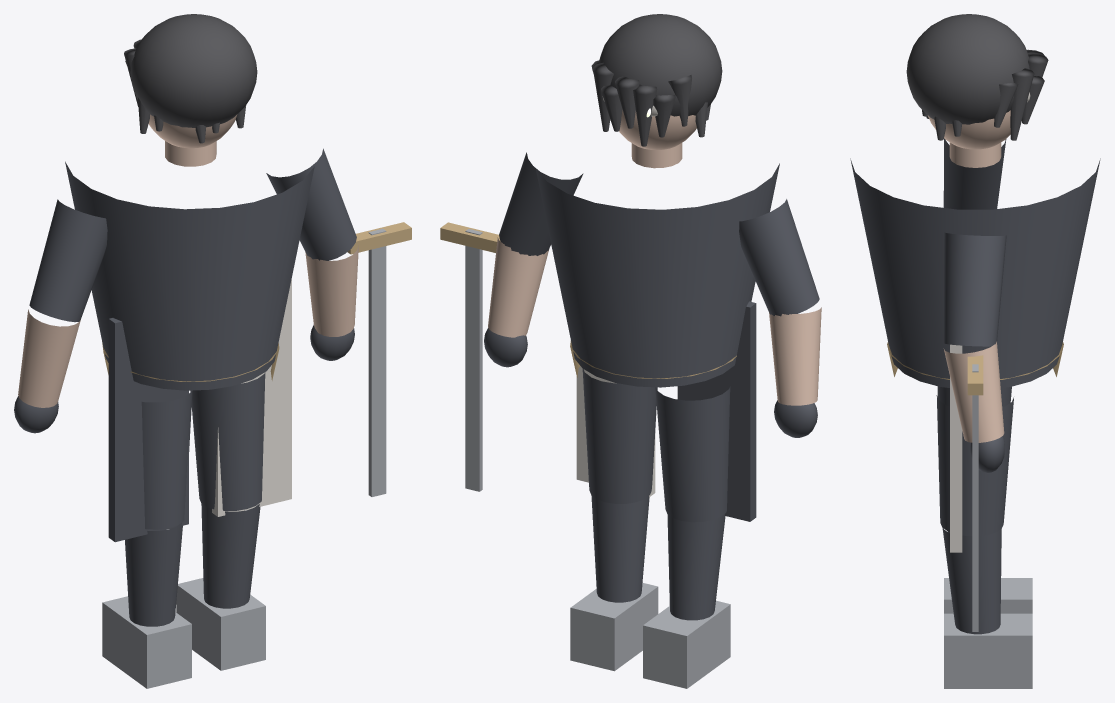
Rendered from dimitri-procedural-v1.glb.
3 views of the same model, side by side, from view 1: azimuth 30°, elevation 25°; view 2: azimuth 150°, elevation 25°; view 3: azimuth 270°, elevation 25° (orthographic). The views are drawn at different scales.
Parts seen in each view (by area): view 1: Outfit_Torso, Hair_Cap, Body_Thigh_R, Outfit_CoatTail_L, Body_UpperArm_L, Body_Thigh_L, Outfit_Boot_L, Outfit_CoatTail_R, Outfit_Boot_R, Body_Shin_R, Body_Shin_L, Weapon_SwordBlade (+8 smaller); view 2: Outfit_Torso, Body_Thigh_L, Body_Thigh_R, Hair_Cap, Outfit_CoatTail_L, Body_UpperArm_L, Outfit_Boot_L, Outfit_Boot_R, Body_Shin_R, Body_Shin_L, Weapon_SwordBlade, Body_Forearm_L (+14 smaller); view 3: Outfit_Torso, Hair_Cap, Body_UpperArm_R, Outfit_Boot_R, Body_Thigh_R, Body_Shin_R, Body_Forearm_R, Body_UpperArm_L, Outfit_CoatTail_R, Weapon_SwordBlade, Body_Head, Outfit_Boot_L (+8 smaller).
Boxes of the visible parts, bbox=[...] form: Outfit_Torso: bbox=[65, 161, 314, 390]; Hair_Cap: bbox=[130, 14, 257, 127]; Body_Thigh_R: bbox=[190, 372, 265, 510]; Outfit_CoatTail_L: bbox=[108, 318, 188, 542]; Body_UpperArm_L: bbox=[29, 199, 107, 322]; Body_Thigh_L: bbox=[141, 390, 192, 529]; Outfit_Boot_L: bbox=[102, 596, 191, 688]; Outfit_CoatTail_R: bbox=[212, 280, 291, 516]; Outfit_Boot_R: bbox=[176, 578, 265, 670]; Body_Shin_R: bbox=[201, 503, 260, 608]; Body_Shin_L: bbox=[125, 523, 182, 626]; Weapon_SwordBlade: bbox=[368, 228, 386, 496]; Outfit_Torso: bbox=[535, 163, 779, 387]; Body_Thigh_L: bbox=[655, 386, 730, 522]; Body_Thigh_R: bbox=[582, 369, 657, 503]; Hair_Cap: bbox=[599, 14, 722, 116]; Outfit_CoatTail_L: bbox=[677, 301, 756, 521]; Body_UpperArm_L: bbox=[739, 199, 819, 316]; Outfit_Boot_L: bbox=[643, 600, 730, 688]; Outfit_Boot_R: bbox=[570, 583, 658, 671]; Body_Shin_R: bbox=[591, 495, 649, 602]; Body_Shin_L: bbox=[667, 514, 725, 620]; Weapon_SwordBlade: bbox=[465, 229, 482, 491]; Body_Forearm_L: bbox=[769, 307, 821, 405]; Outfit_Torso: bbox=[850, 158, 1100, 387]; Hair_Cap: bbox=[906, 14, 1029, 124]; Body_UpperArm_R: bbox=[943, 232, 1006, 346]; Outfit_Boot_R: bbox=[944, 613, 1032, 688]; Body_Thigh_R: bbox=[936, 395, 1013, 536]; Body_Shin_R: bbox=[942, 528, 1001, 634]; Body_Forearm_R: bbox=[943, 341, 1004, 442]; Body_UpperArm_L: bbox=[943, 138, 1006, 209]; Outfit_CoatTail_R: bbox=[950, 344, 962, 552]; Weapon_SwordBlade: bbox=[972, 364, 978, 631]; Body_Head: bbox=[927, 110, 1010, 149]; Outfit_Boot_L: bbox=[944, 578, 1032, 613].
Size of the model in its own units: 1.26 by 2.01 by 0.7144.
